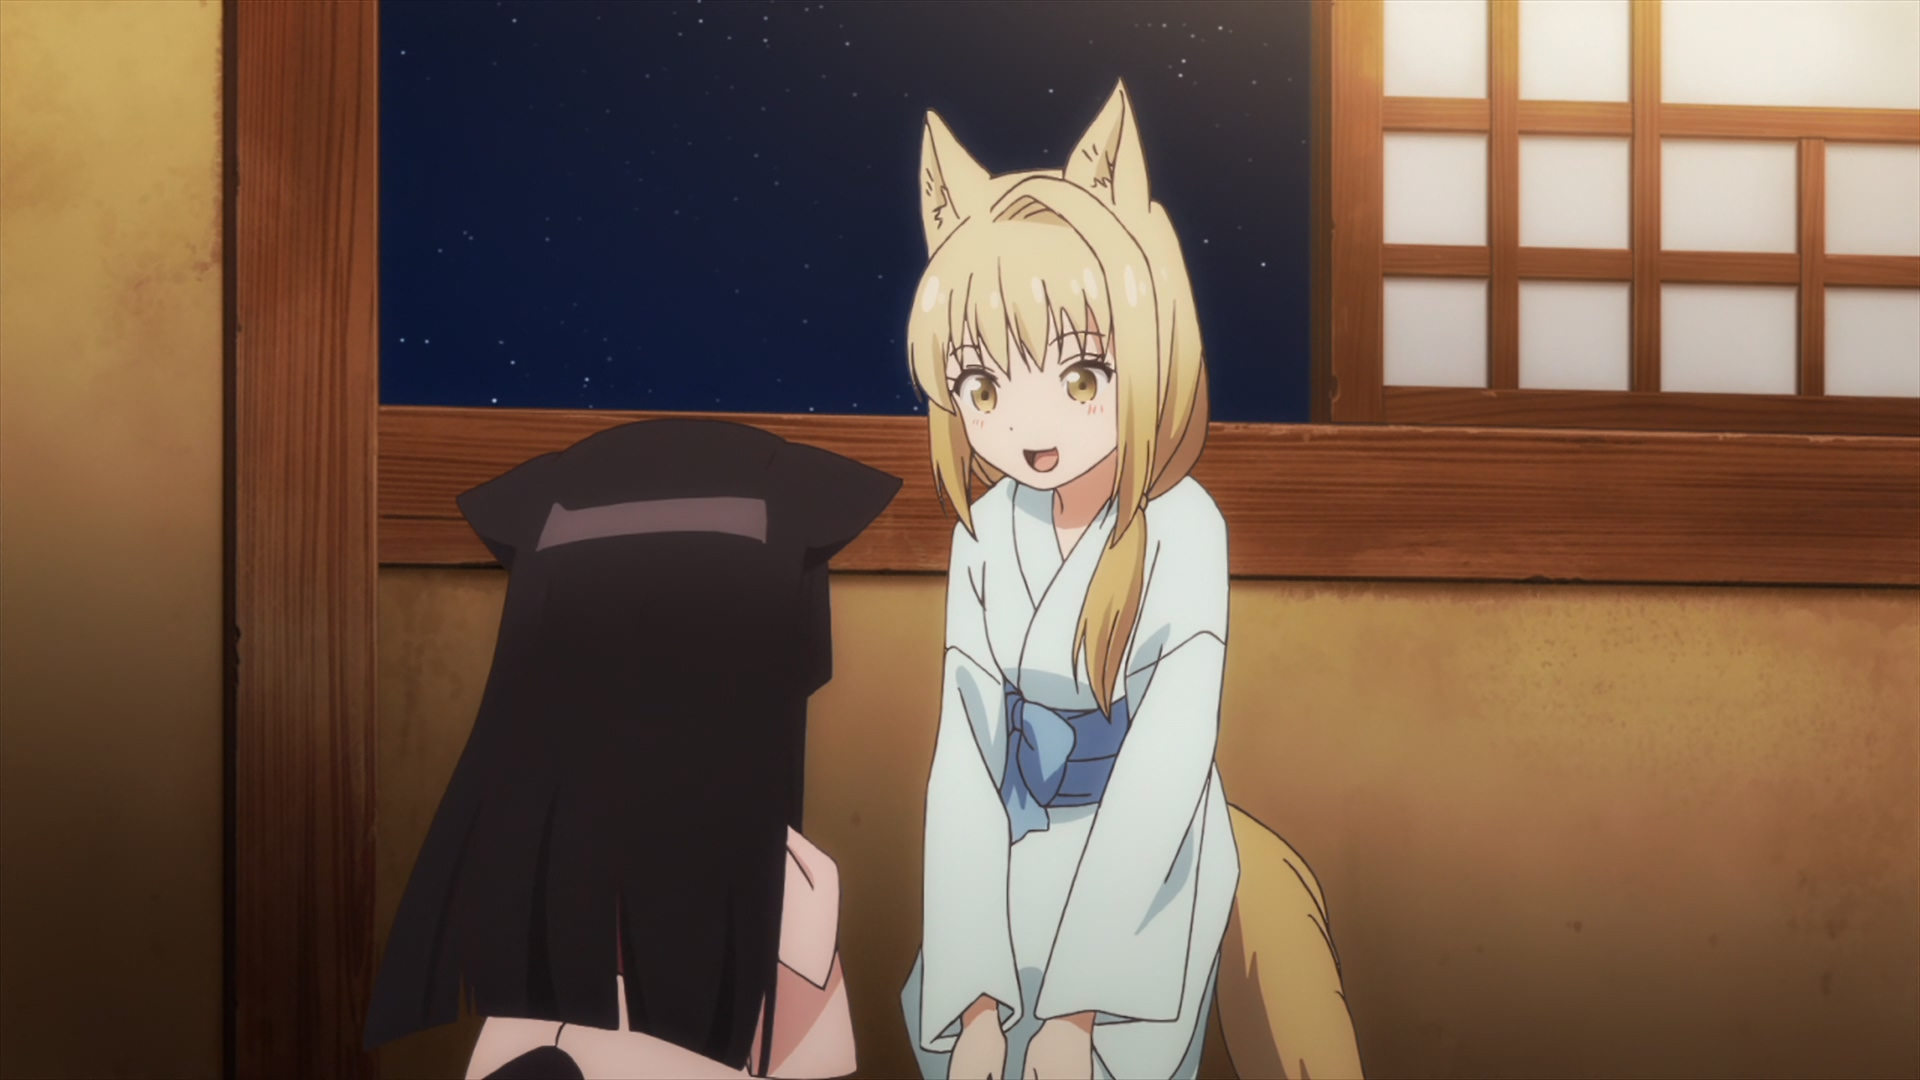桐: (902, 76, 1361, 1080)
樱: (367, 417, 905, 1080)
